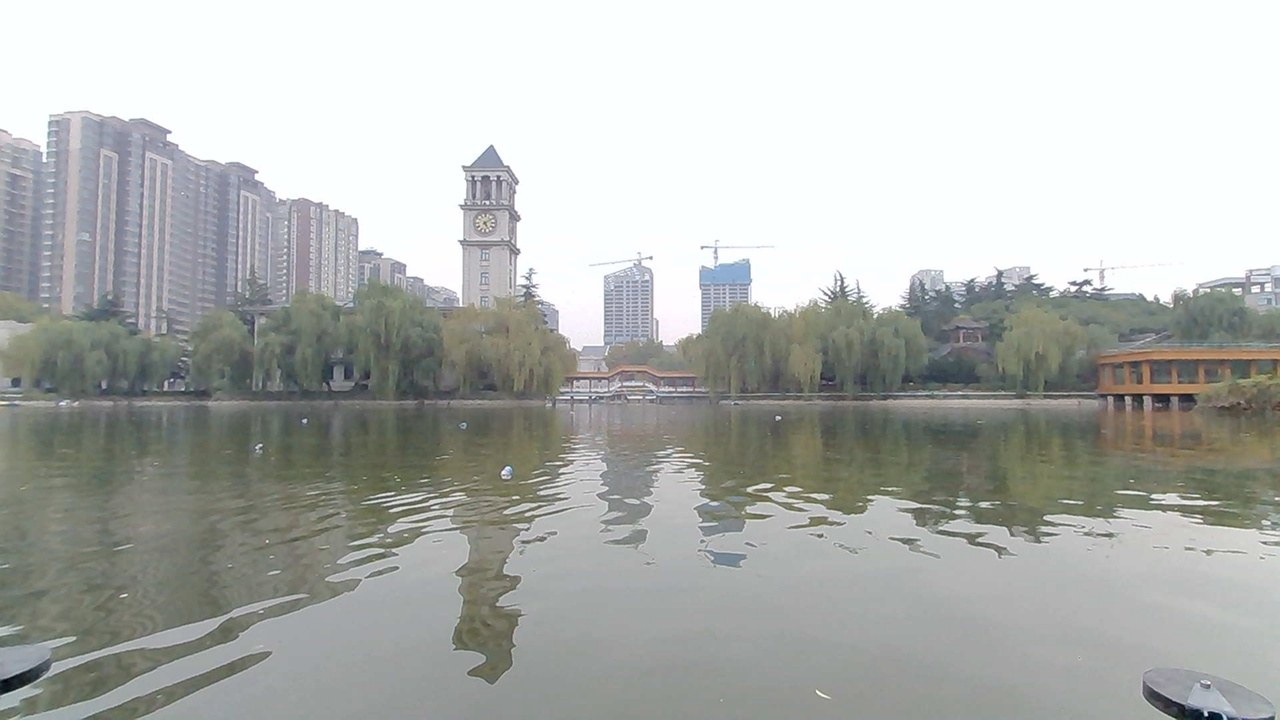bottle: (480, 453, 540, 486), (247, 438, 288, 461), (757, 402, 796, 425), (442, 410, 479, 434), (290, 402, 326, 426)
